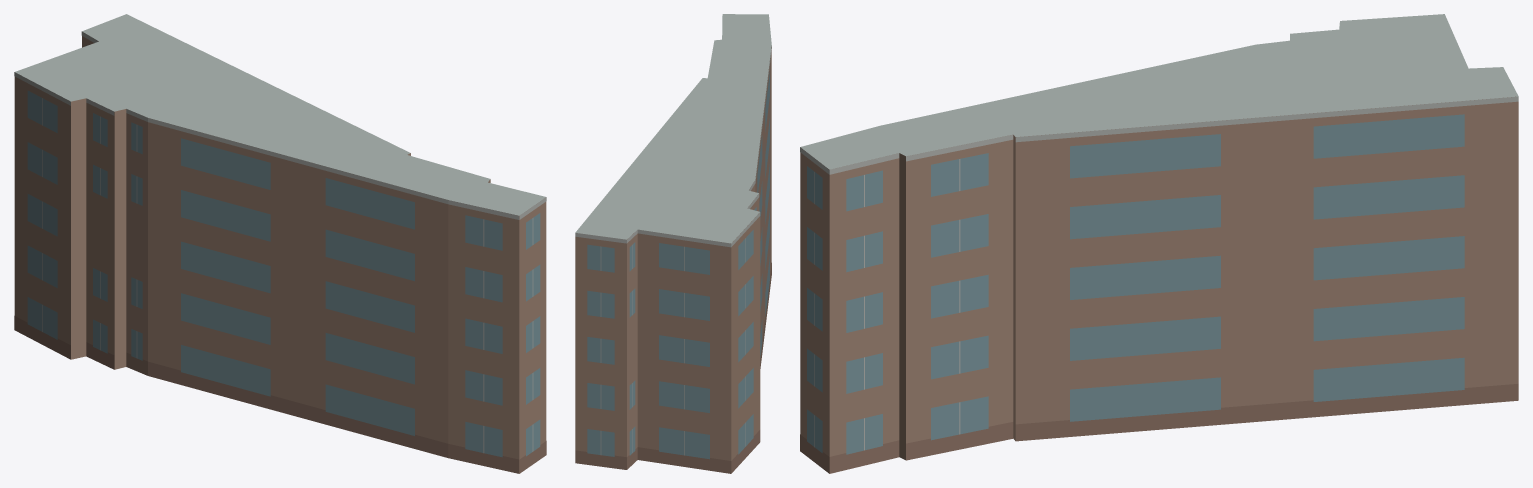
Rendered from survey-upis-32818584.glb.
The picture shows the model from 3 angles, left to right: view 1: azimuth 30°, elevation 25°; view 2: azimuth 150°, elevation 25°; view 3: azimuth 270°, elevation 25°; orthographic projection. The views are drawn at different scales.
Visible parts, largest first — view 1: survey-upis-32818584.tmp; view 2: survey-upis-32818584.tmp; view 3: survey-upis-32818584.tmp.
Boxes of the visible parts, left/top/right/bottom form: survey-upis-32818584.tmp: left=14, top=14, right=546, bottom=473; survey-upis-32818584.tmp: left=575, top=14, right=771, bottom=473; survey-upis-32818584.tmp: left=800, top=14, right=1518, bottom=473.
Bounding box in the file's own units: 15.93 × 14.5 × 31.06.
